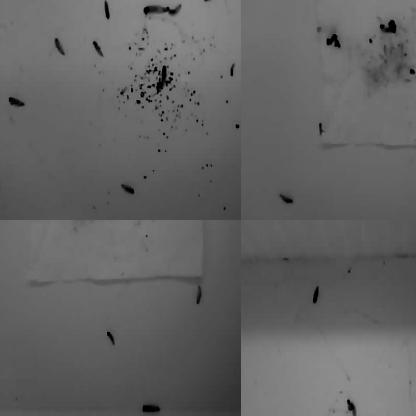PtecticusTenebrifer: (143, 5, 169, 16), (53, 37, 66, 56), (8, 96, 25, 109), (92, 39, 103, 59), (169, 3, 183, 17), (141, 404, 162, 413), (311, 284, 321, 302), (347, 399, 357, 416), (161, 64, 167, 92), (122, 182, 136, 194), (46, 220, 60, 230), (103, 0, 110, 19), (0, 220, 13, 230), (230, 61, 237, 78), (241, 258, 250, 271), (197, 283, 202, 306), (107, 332, 116, 344), (96, 0, 111, 6), (202, 220, 211, 230), (202, 0, 219, 5), (21, 0, 35, 5)
